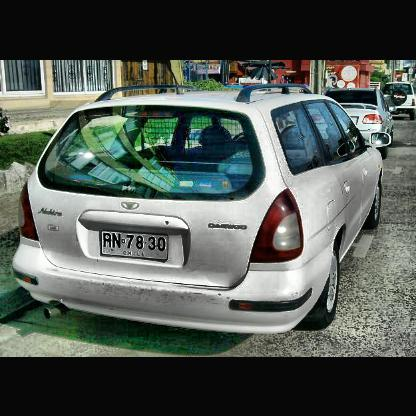Daewoo Nubira Wagon 2002: (15, 85, 386, 337)
